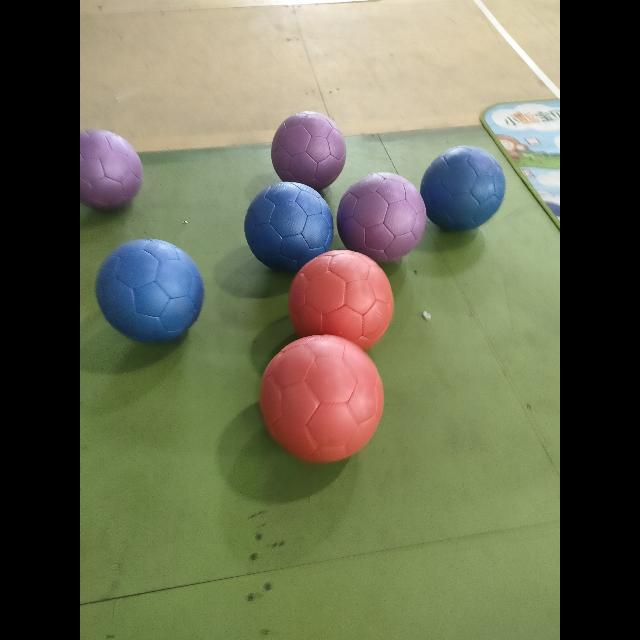B: (284, 250, 400, 356), (96, 240, 204, 342), (245, 182, 333, 272), (420, 146, 506, 230)
P: (338, 173, 427, 263), (272, 112, 346, 190), (80, 130, 142, 208)
R: (261, 334, 384, 462)
